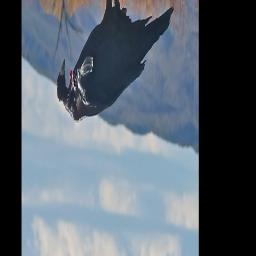Crow: (56, 0, 175, 125)
